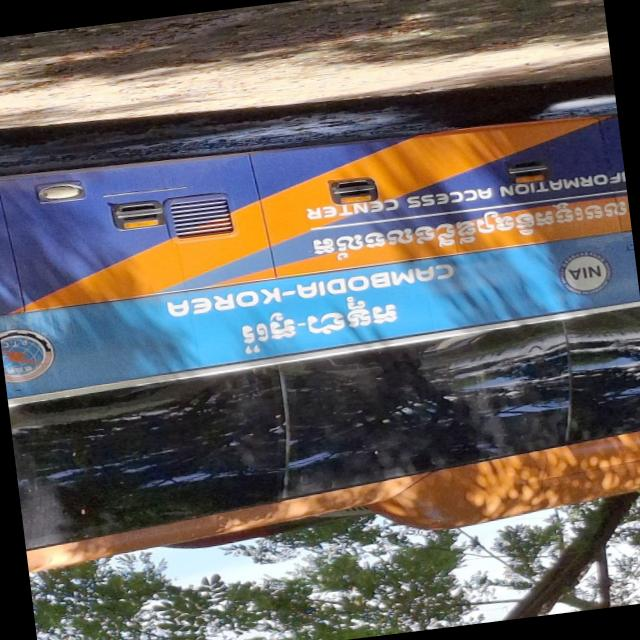1: (205, 280, 442, 367)
Yolov11_80vkh: (257, 190, 619, 277)
